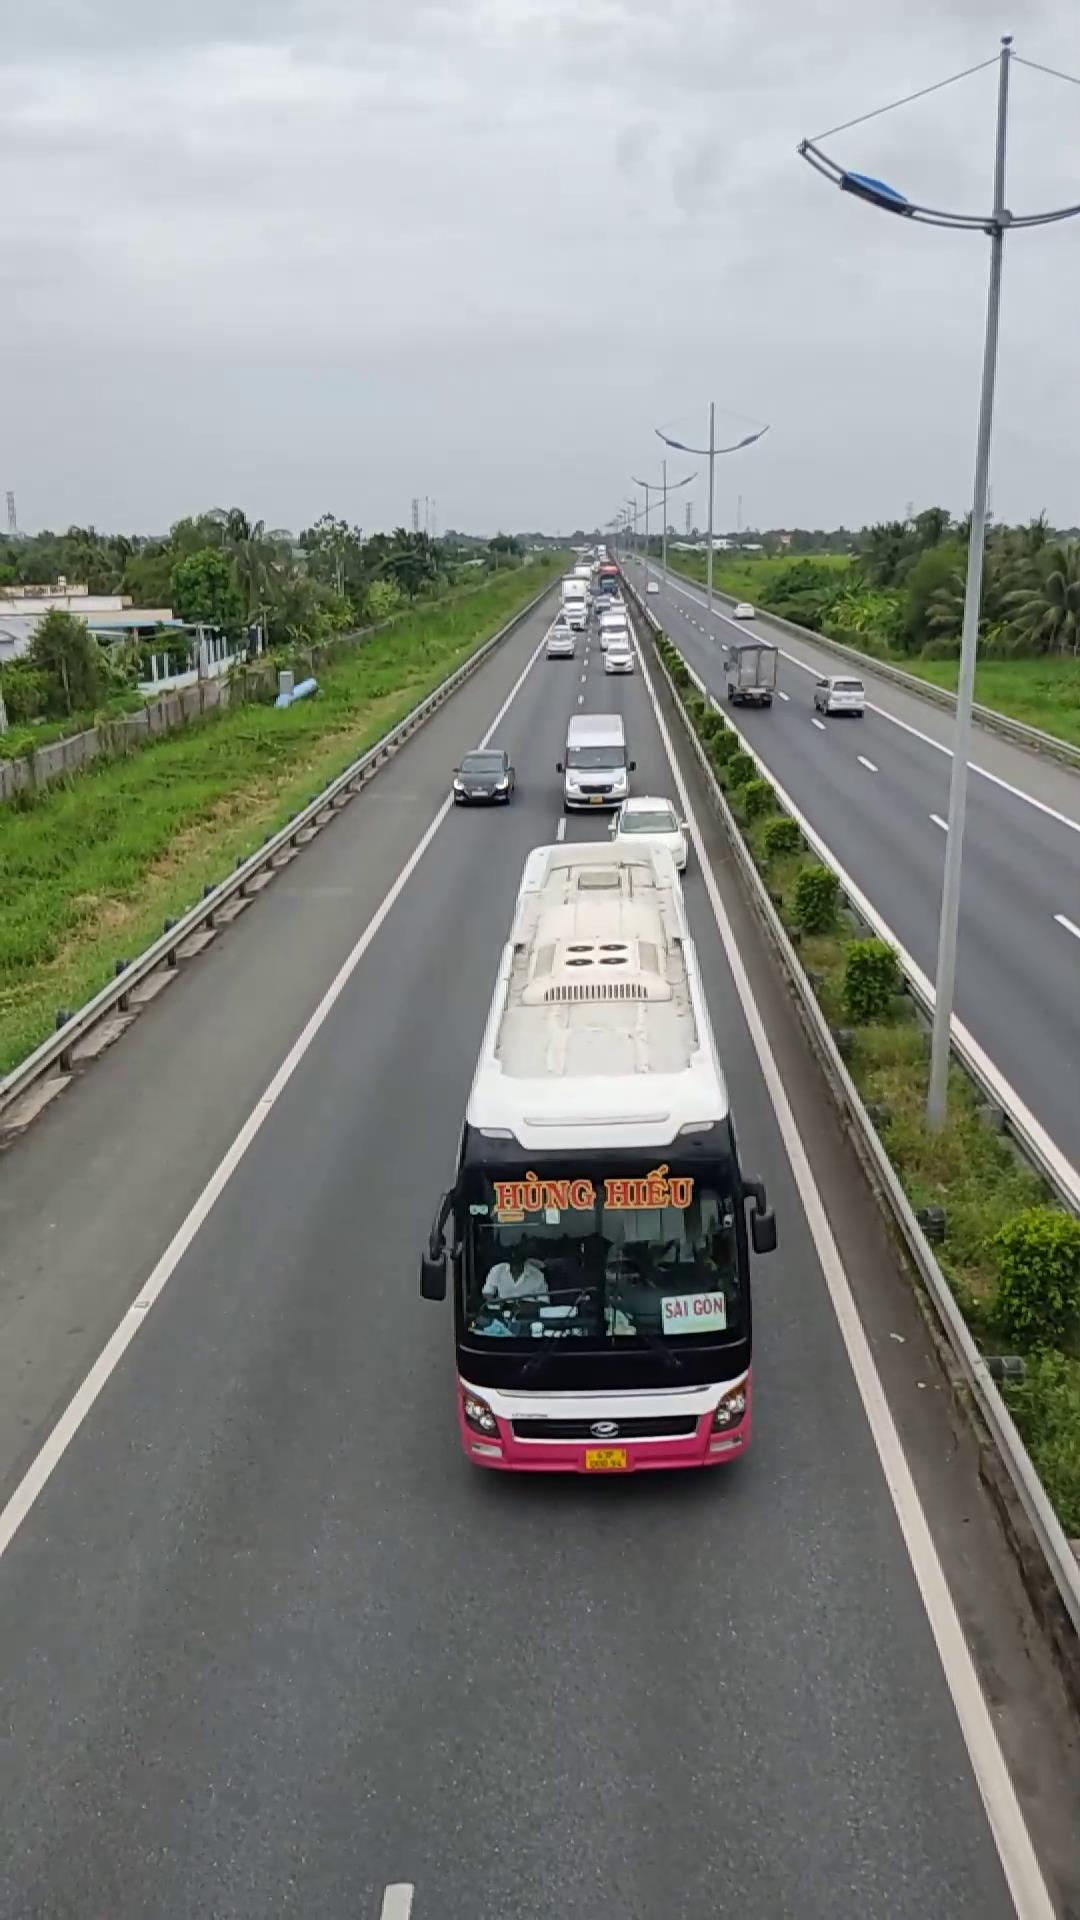bus: (421, 807, 770, 1480)
car: (558, 712, 633, 812)
